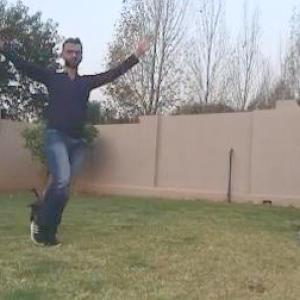takeoff: (0, 35, 117, 245)
